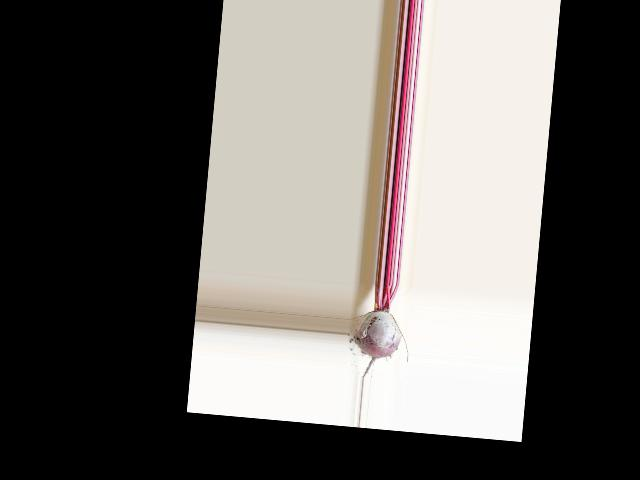beet: (350, 282, 414, 382)
